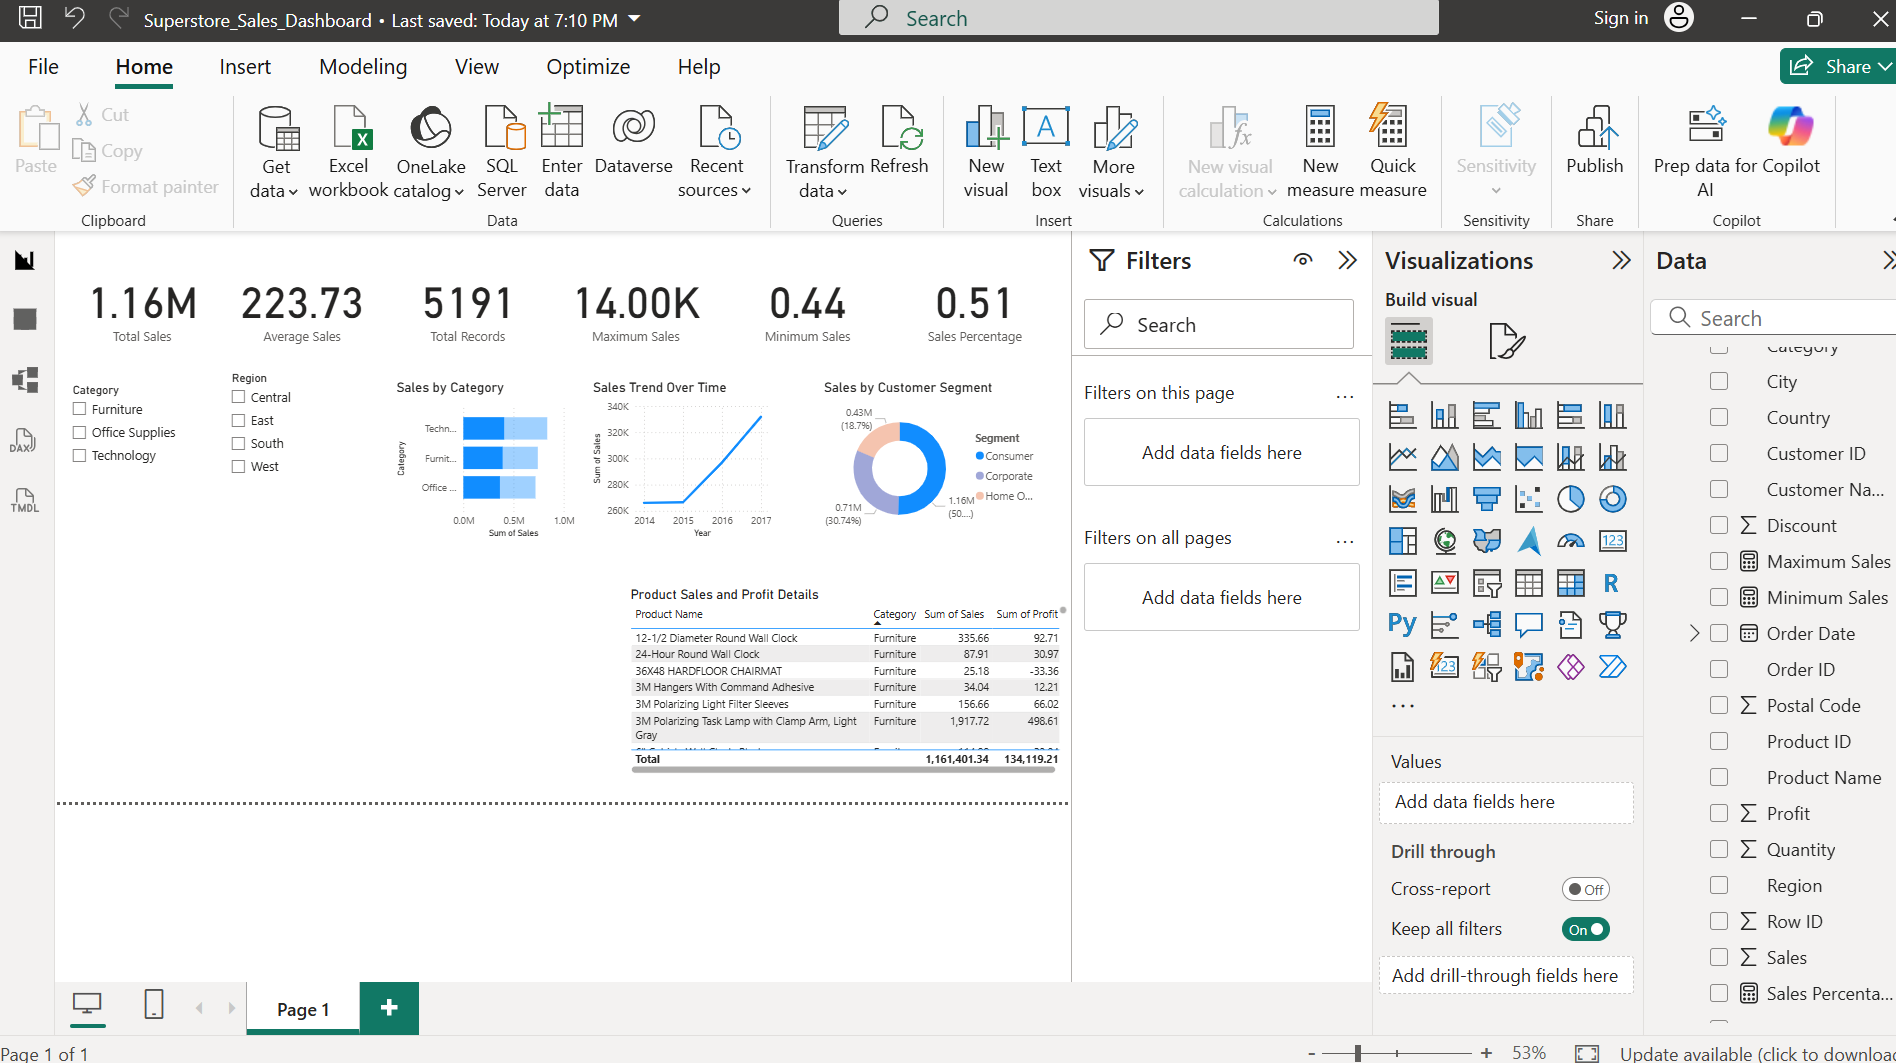

Layout of this report page (visuals, bound fields, positions):
{"tool":"powerbi","page":{"name":"Page 1","canvas":[1280,720],"ordinal":0},"visuals":[{"type":"card","fields":{"Values":["Sample - Superstore.Total Sales"]},"box":[10,54,200,134],"z":0},{"type":"card","fields":{"Values":["Sample - Superstore.Average Sales"]},"box":[210,54,202,134],"z":1000},{"type":"card","fields":{"Values":["Sample - Superstore.Total Records"]},"box":[412,54,216,134],"z":2000},{"type":"card","fields":{"Values":["Sample - Superstore.Maximum Sales"]},"box":[628,54,208,134],"z":3000},{"type":"card","fields":{"Values":["Sample - Superstore.Minimum Sales"]},"box":[842,54,210,134],"z":4000},{"type":"card","fields":{"Values":["Sample - Superstore.Sales Percentage"]},"box":[1052,54,212,134],"z":5000},{"type":"clusteredBarChart","title":"Sales by Category","fields":{"Category":["Sample - Superstore.Category"],"Y":["Sum(Sample - Superstore.Sales)"]},"box":[192,188,344,282],"z":6000},{"type":"lineChart","title":"Sales Trend Over Time","fields":{"Category":["Sample - Superstore.Order Date.Variation.Date Hierarchy.Year"],"Y":["Sum(Sample - Superstore.Sales)"]},"box":[552,188,348,282],"z":7000},{"type":"donutChart","title":"Sales by Customer Segment","fields":{"Category":["Sample - Superstore.Segment"],"Y":["Sum(Sample - Superstore.Sales)"]},"box":[914,184,350,286],"z":8000},{"type":"tableEx","title":"Product Sales and Profit Details","fields":{"Values":["Sample - Superstore.Product Name","Sample - Superstore.Category","Sum(Sample - Superstore.Sales)","Sum(Sample - Superstore.Profit)"]},"box":[0,470,1264,250],"z":9000},{"type":"slicer","fields":{"Values":["Sample - Superstore.Category"]},"box":[0,188,174,120],"z":10000},{"type":"slicer","fields":{"Values":["Sample - Superstore.Region"]},"box":[10,308,156,146],"z":11000},{"type":"textbox","box":[0,0,1280,68],"z":11001}]}

Visuals, with their boxes on the page's 1280x720 design canvas (x1, y1, x2, y2). These are canvas units, not pixel positions in the 1896x1063 screenshot, which may show the page scaled, cropped or inside an application window:
card - Sample - Superstore.Total Sales: [left=10, top=54, right=210, bottom=188]
card - Sample - Superstore.Average Sales: [left=210, top=54, right=412, bottom=188]
card - Sample - Superstore.Total Records: [left=412, top=54, right=628, bottom=188]
card - Sample - Superstore.Maximum Sales: [left=628, top=54, right=836, bottom=188]
card - Sample - Superstore.Minimum Sales: [left=842, top=54, right=1052, bottom=188]
card - Sample - Superstore.Sales Percentage: [left=1052, top=54, right=1264, bottom=188]
"Sales by Category" clusteredBarChart: [left=192, top=188, right=536, bottom=470]
"Sales Trend Over Time" lineChart: [left=552, top=188, right=900, bottom=470]
"Sales by Customer Segment" donutChart: [left=914, top=184, right=1264, bottom=470]
"Product Sales and Profit Details" tableEx: [left=0, top=470, right=1264, bottom=720]
slicer - Sample - Superstore.Category: [left=0, top=188, right=174, bottom=308]
slicer - Sample - Superstore.Region: [left=10, top=308, right=166, bottom=454]
textbox: [left=0, top=0, right=1280, bottom=68]
